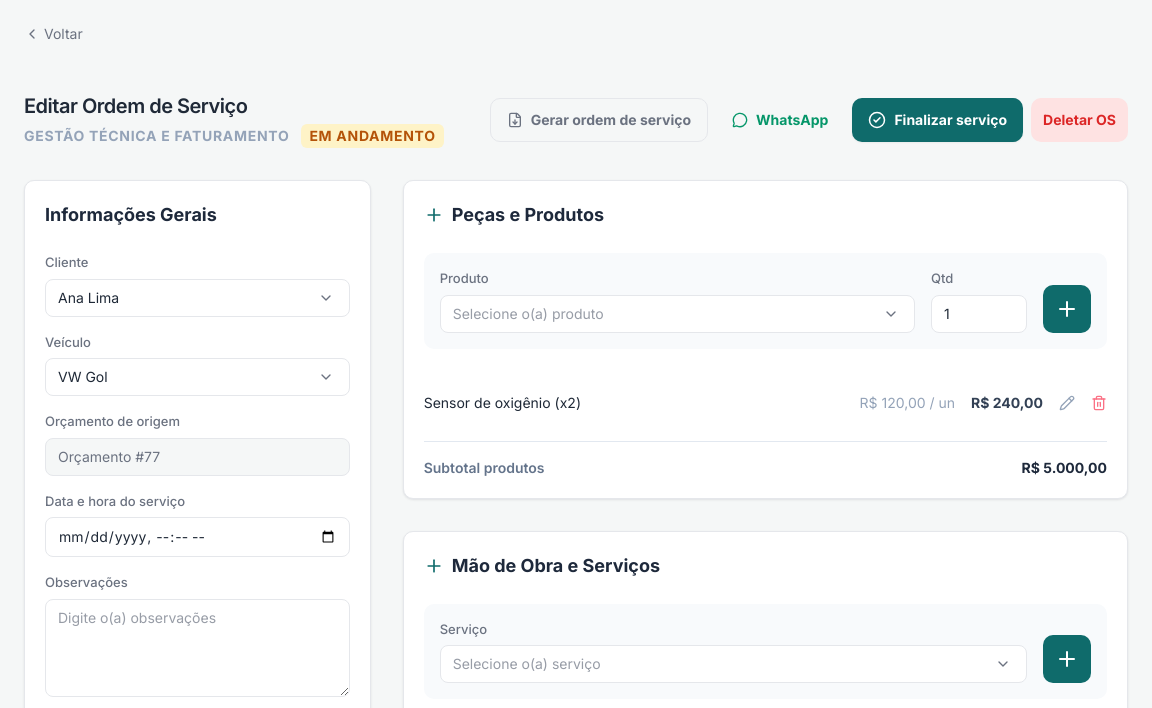
Scenario: <OrderEdit> — editar item já lançado › o estoque disponível da linha soma o que ela já reservou
This screenshot has width=1152, height=708.
Click the button named "Editar Sensor de oxigênio": (1067, 402) [1059,394,1075,410]
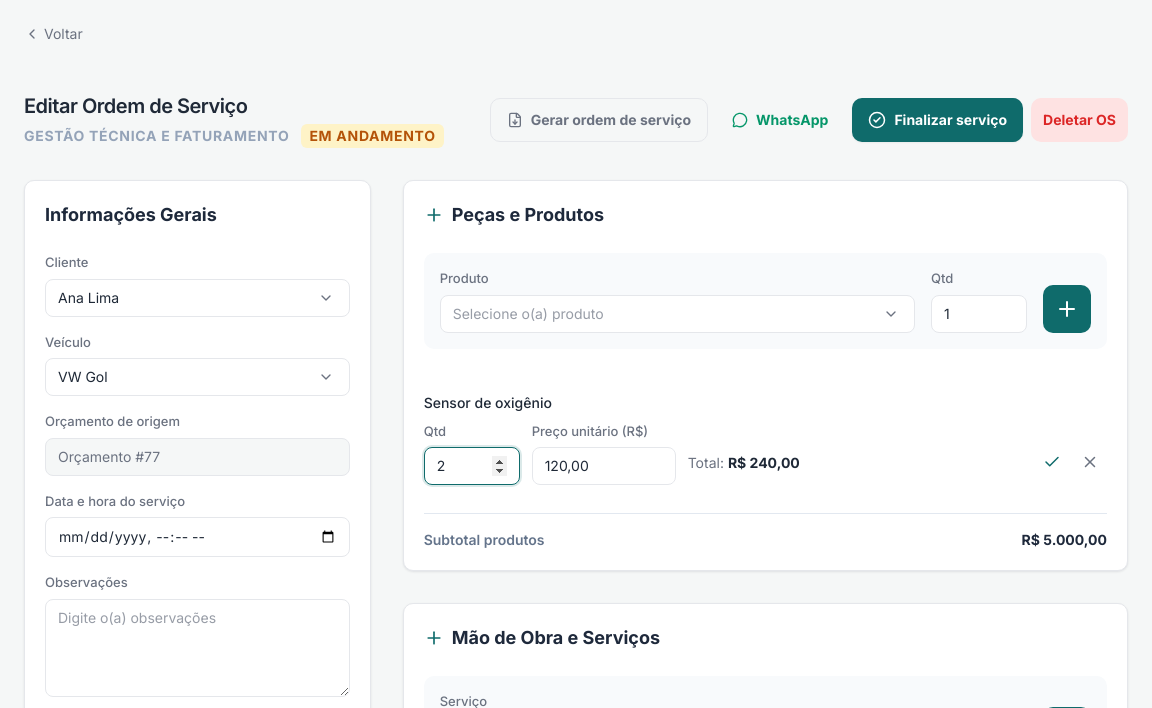
Replace the text in the number field labelled "Qtd" in the row of "Total:" with "11": (472, 466) [424,446,520,484]
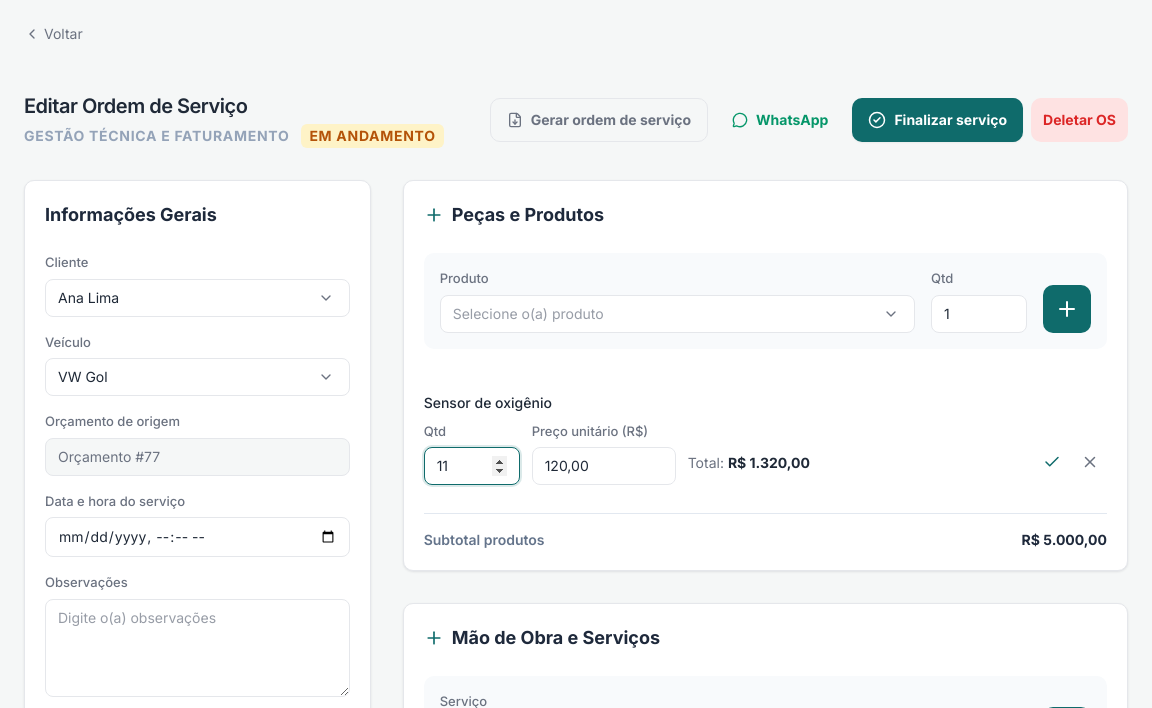
Replace the text in the number field labelled "Qtd" in the row of "Total:" with "13": (472, 466) [424,446,520,484]
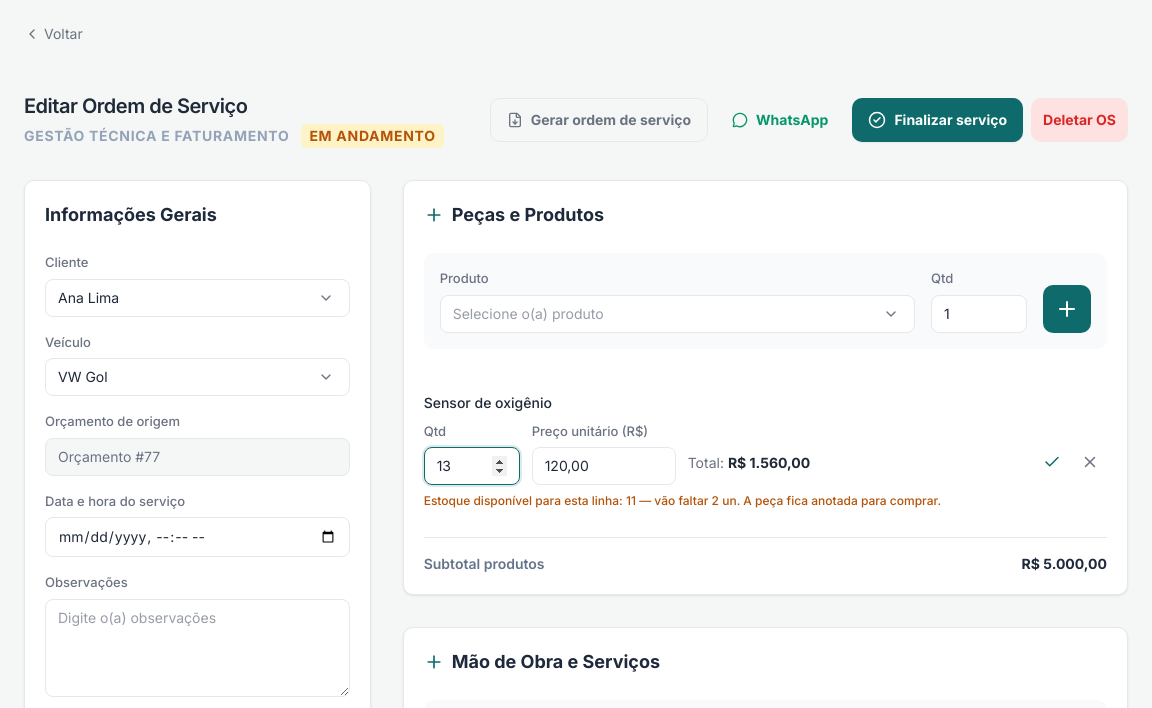
Expected: the message shows "Estoque disponível para esta linha: 11 — vão faltar 2 un.", [424,492,941,508]
